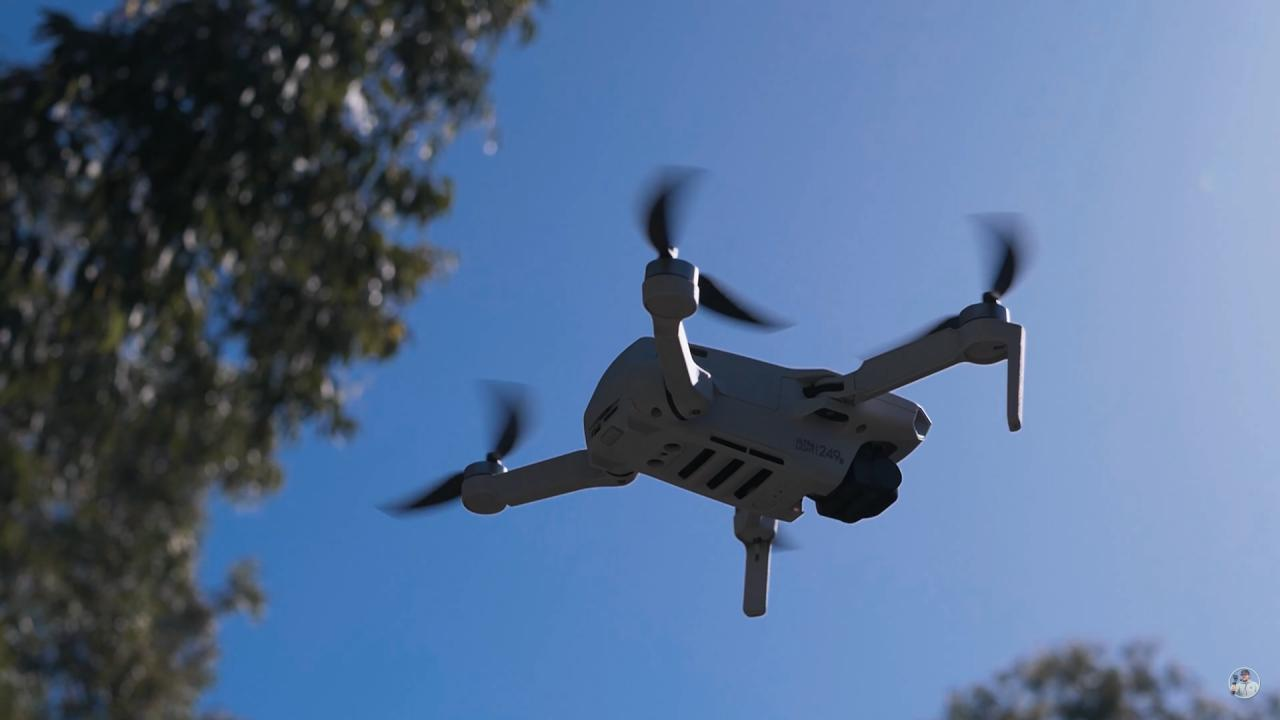Drone: (352, 144, 1072, 640)
